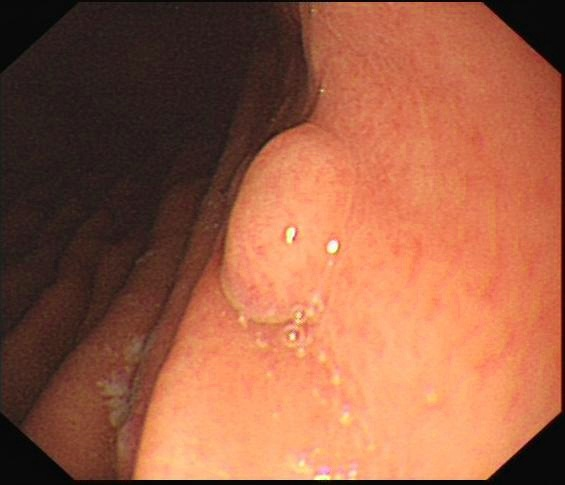Polyp: (212, 121, 365, 333)
